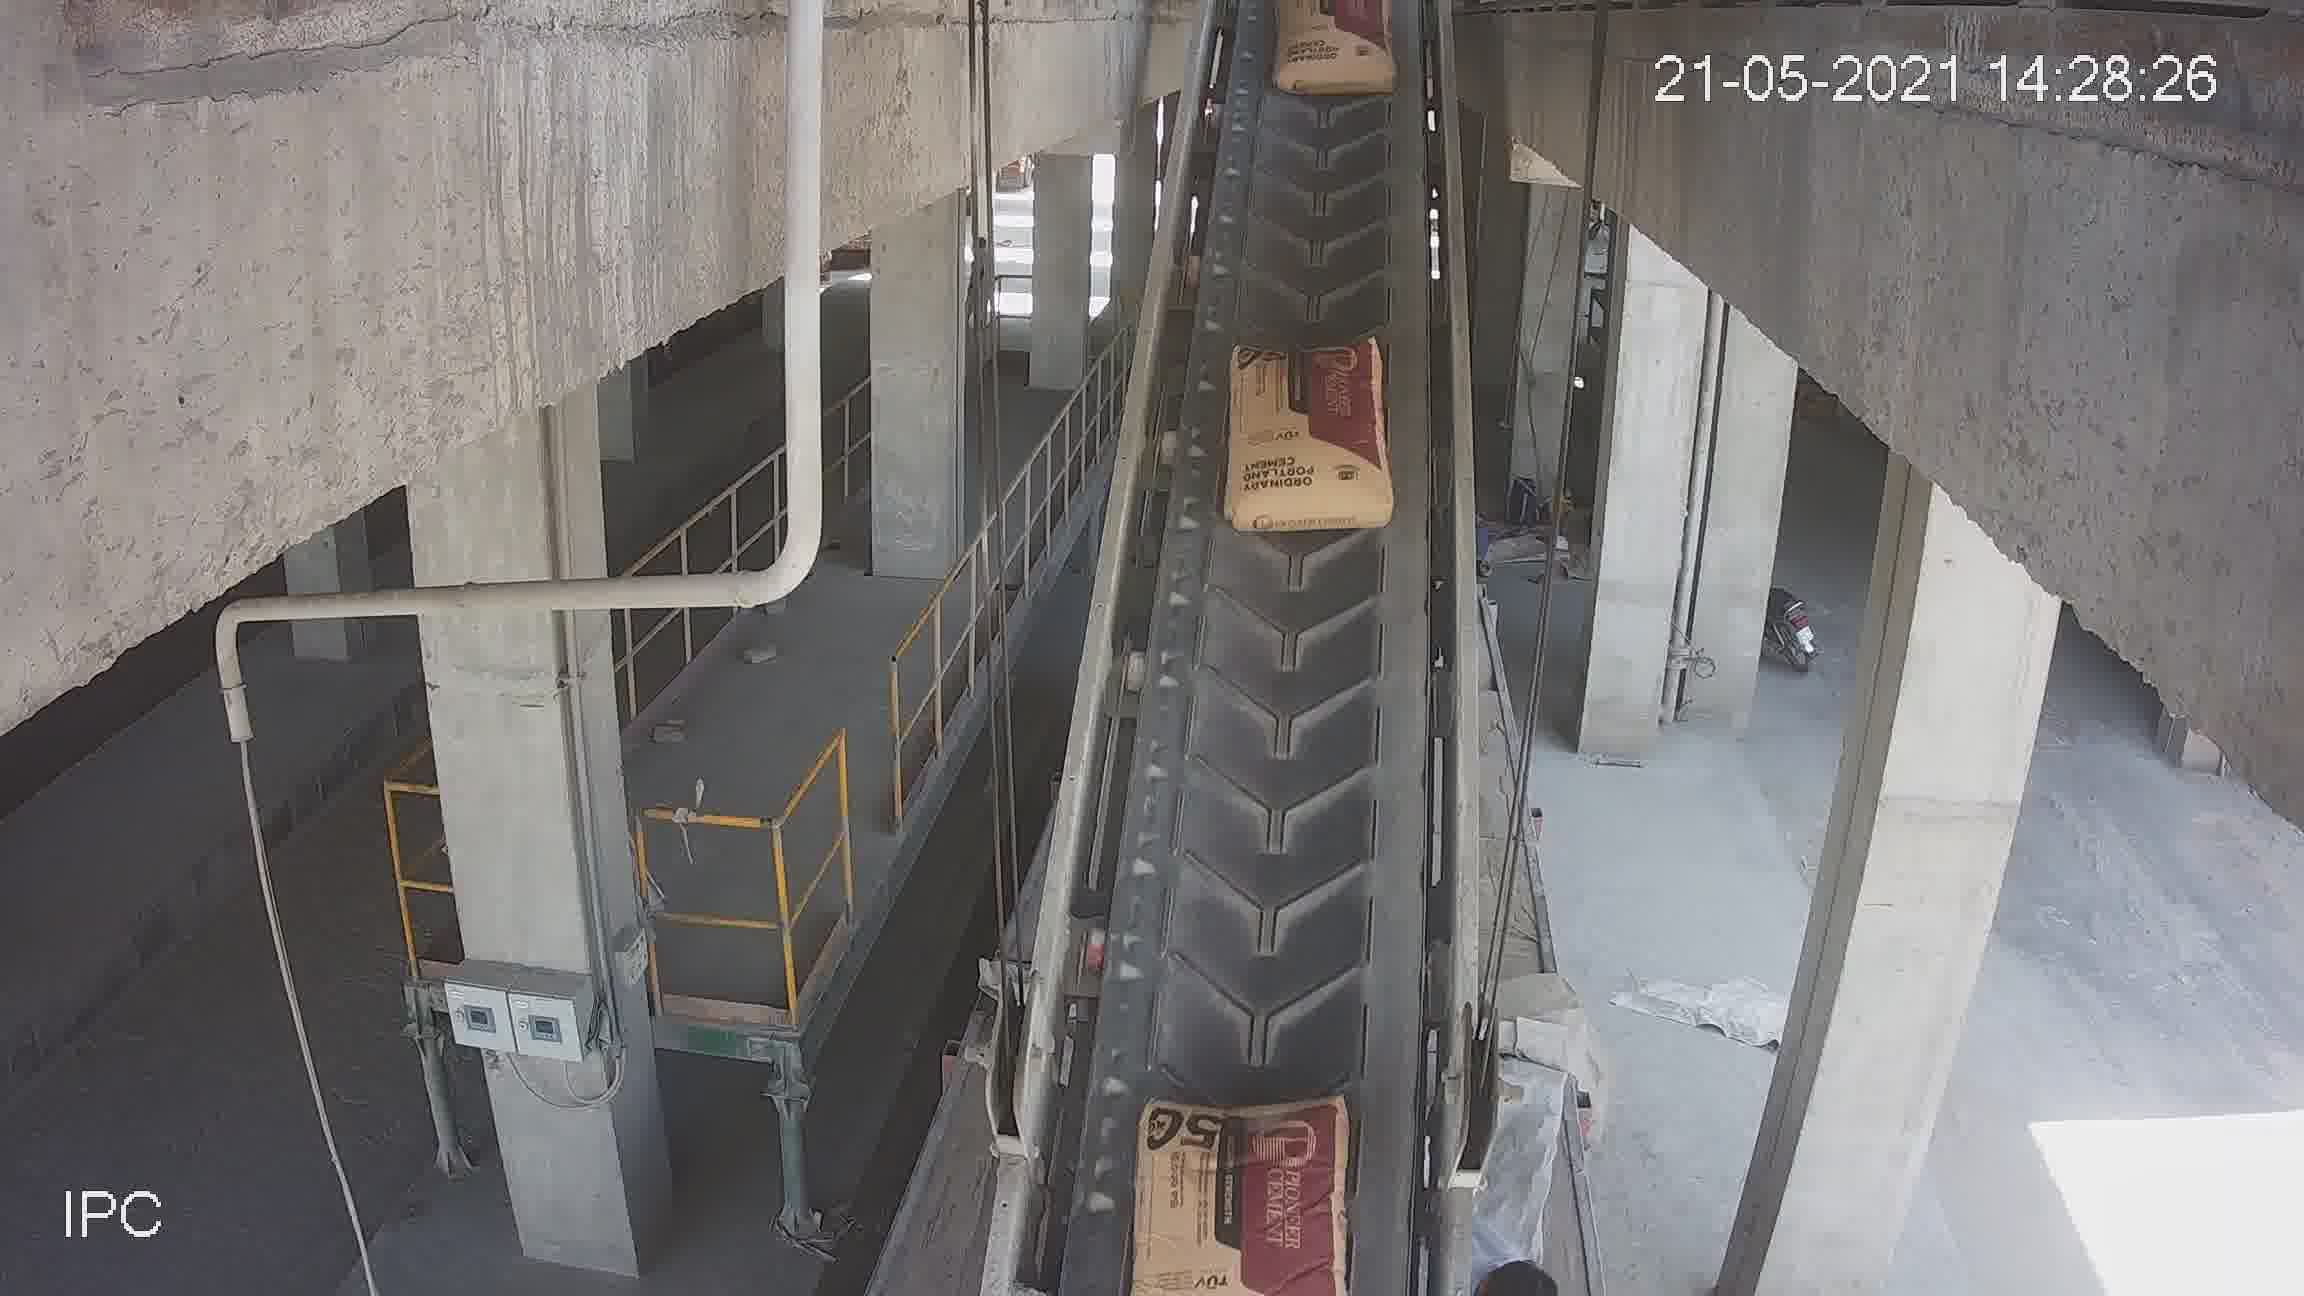bag: (1144, 1101, 1351, 1279), (1233, 350, 1389, 540), (1280, 3, 1388, 84)
belt: (1025, 54, 1480, 1242)
